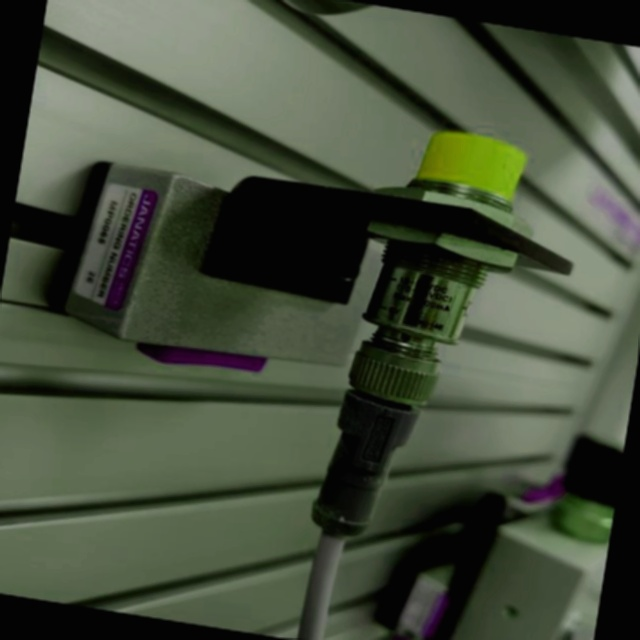inductive sensor: (29, 59, 600, 570)
